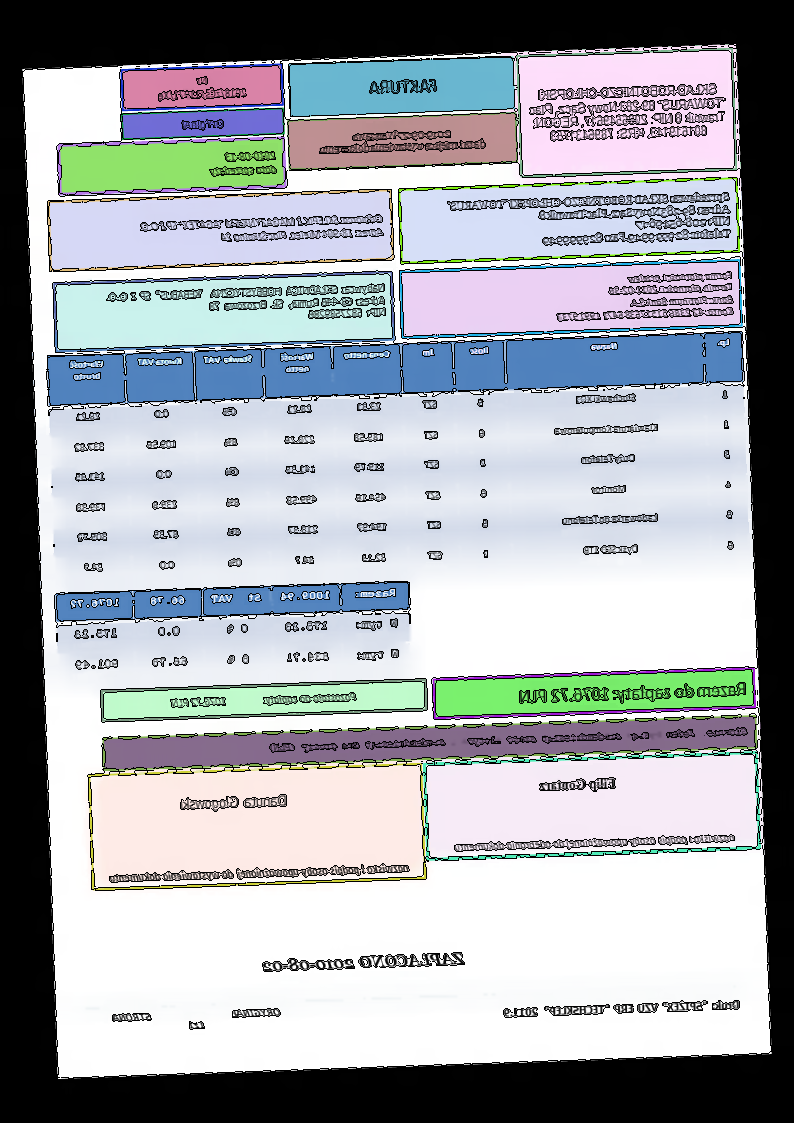Table: (48, 330, 752, 590), (53, 580, 413, 685)
TextBox: (446, 188, 734, 251), (269, 724, 750, 755), (102, 280, 389, 328), (526, 81, 730, 144), (554, 268, 736, 325), (137, 212, 386, 248), (108, 860, 412, 885), (453, 831, 737, 854), (518, 679, 748, 707), (260, 949, 470, 976), (314, 126, 489, 157), (501, 998, 741, 1020), (109, 1006, 283, 1034), (168, 689, 358, 710), (155, 74, 249, 104), (179, 793, 289, 814), (207, 148, 279, 179), (368, 76, 440, 98), (538, 775, 618, 794), (180, 115, 227, 133)
